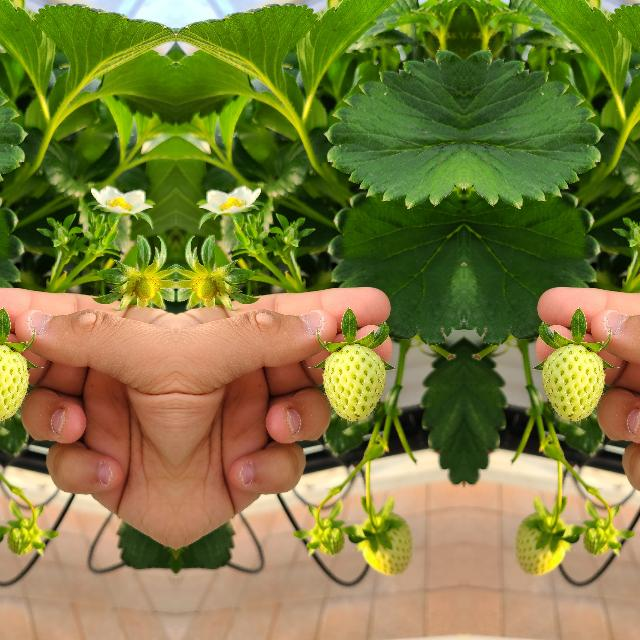Health_25: (322, 345, 384, 421), (542, 345, 604, 421), (356, 510, 414, 572), (512, 510, 570, 572), (0, 345, 28, 421)
